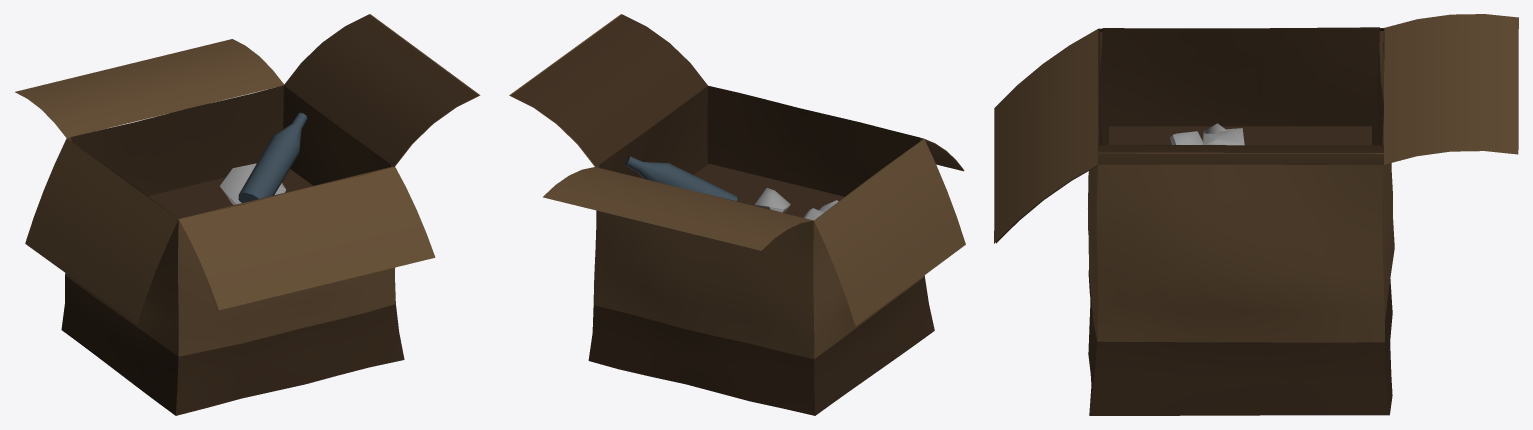
Rendered from Cardboard_Box_Wet_B.fbx.
3 renders of one model, left to right at view 1: azimuth 30°, elevation 25°; view 2: azimuth 150°, elevation 25°; view 3: azimuth 270°, elevation 25°, orthographic. The views are drawn at different scales.
Parts seen in each view (by area): view 1: Cardboard_Box_Wet_B_LOD0; view 2: Cardboard_Box_Wet_B_LOD0; view 3: Cardboard_Box_Wet_B_LOD0.
Boxes of the visible parts, x1,y1,x2,y2 form: Cardboard_Box_Wet_B_LOD0: (15,14,480,415); Cardboard_Box_Wet_B_LOD0: (509,14,965,415); Cardboard_Box_Wet_B_LOD0: (994,14,1518,415).
Size of what is drawn, in the model's own units: 0.8263 by 0.5552 by 0.8448.
